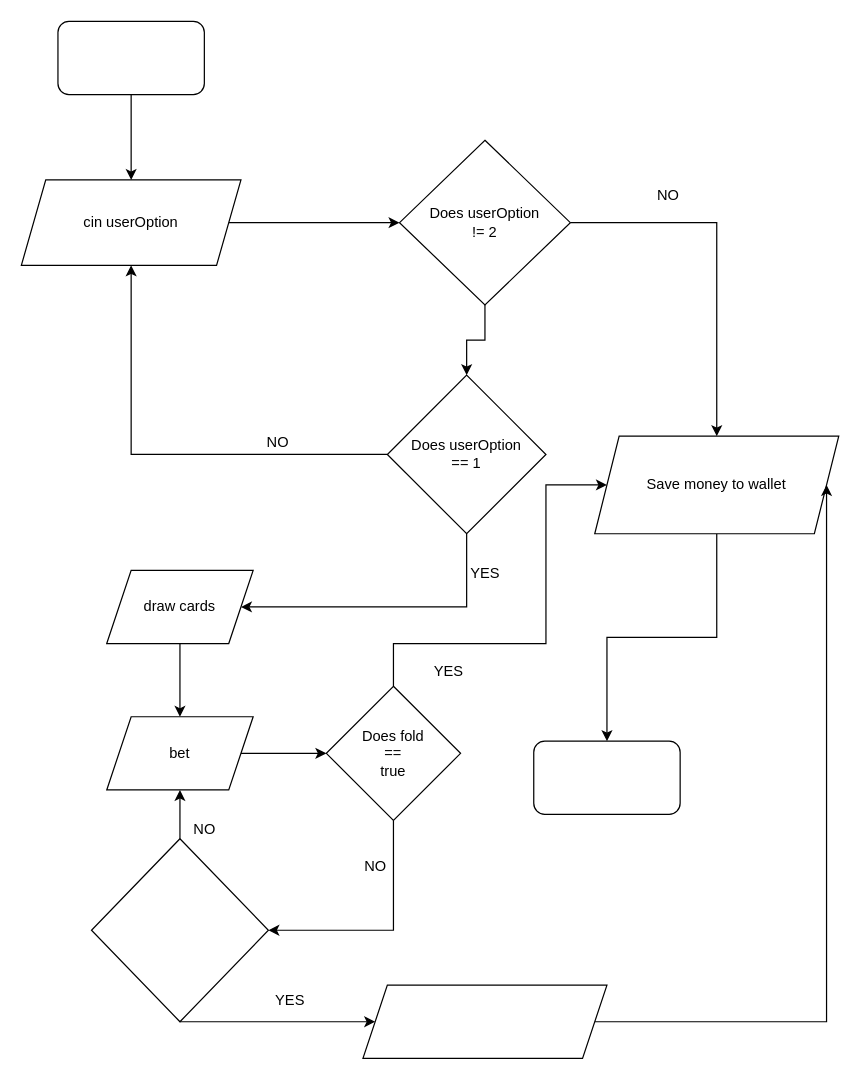
This 860x1080 diagram has some shape labels left out. The shapes that lost their labels are listed below. From the top down, each one's centre as x and y in pixels, then its label:
At point (130, 57): "Start".
At point (606, 777): "end".
At point (179, 930): "has bet been called 5 times?".
At point (484, 1021): "call hand algorithm functions to determine winner".
